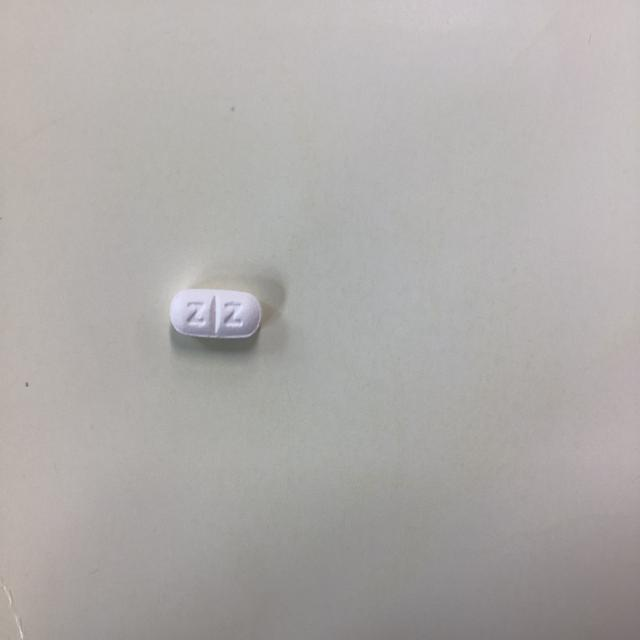-: (164, 276, 276, 358)
